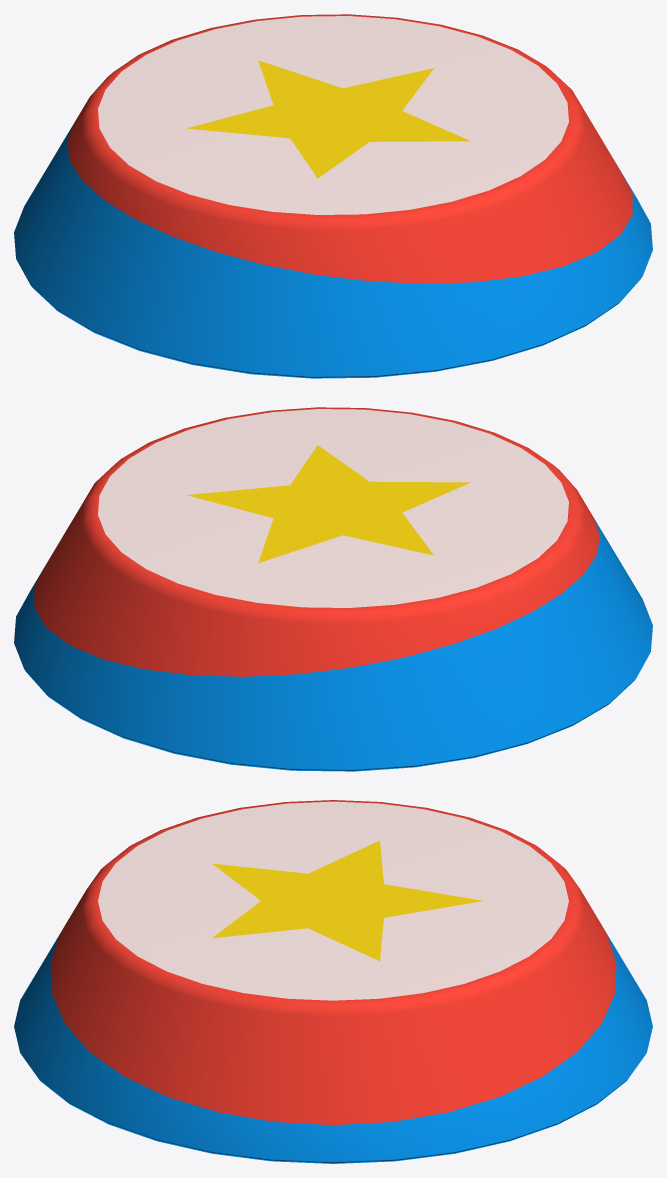
File: Public_14_Circus_Pedestal_1.glb
3 views of the same model, one above another, from view 1: azimuth 30°, elevation 25°; view 2: azimuth 150°, elevation 25°; view 3: azimuth 270°, elevation 25° (orthographic).
Parts seen in each view (by area): view 1: Public_14_Circus_Pedestal_1; view 2: Public_14_Circus_Pedestal_1; view 3: Public_14_Circus_Pedestal_1.
Part boxes in pixels (box(x1,y1,x2,y2)): Public_14_Circus_Pedestal_1: box(14, 14, 652, 378); Public_14_Circus_Pedestal_1: box(14, 407, 652, 771); Public_14_Circus_Pedestal_1: box(14, 800, 652, 1163).
Bounding box in the file's own units: 2.37 × 0.5285 × 2.37.
Materials: 1 (1 with a texture image).
